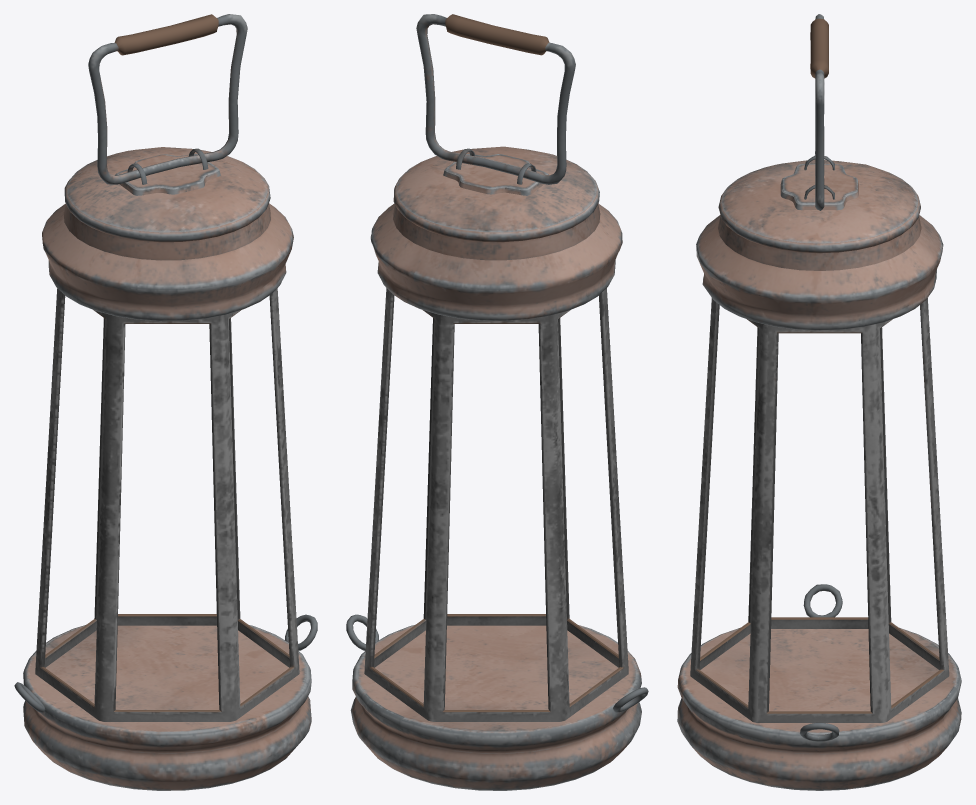
The model's file is SM_Lantern.fbx.
3 views of the same model, side by side, from view 1: azimuth 30°, elevation 25°; view 2: azimuth 150°, elevation 25°; view 3: azimuth 270°, elevation 25° (orthographic). The views are drawn at different scales.
Parts seen in each view (by area): view 1: SM_Lantern_LOD0; view 2: SM_Lantern_LOD0; view 3: SM_Lantern_LOD0.
Part boxes in pixels (x1,y1,x2,y2): SM_Lantern_LOD0: (14, 14, 317, 790); SM_Lantern_LOD0: (346, 14, 648, 790); SM_Lantern_LOD0: (677, 14, 961, 790).
Size of the model in its own units: 20.35 by 17.27 by 46.75.
Materials: 1 (1 with a texture image).
